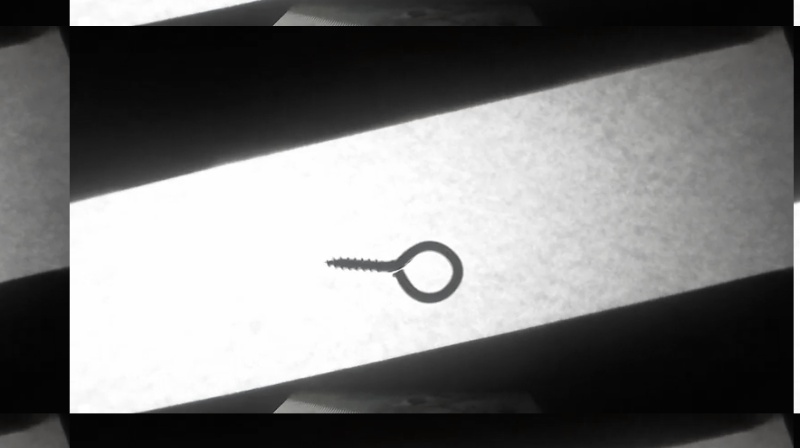O001: (321, 238, 467, 305)
